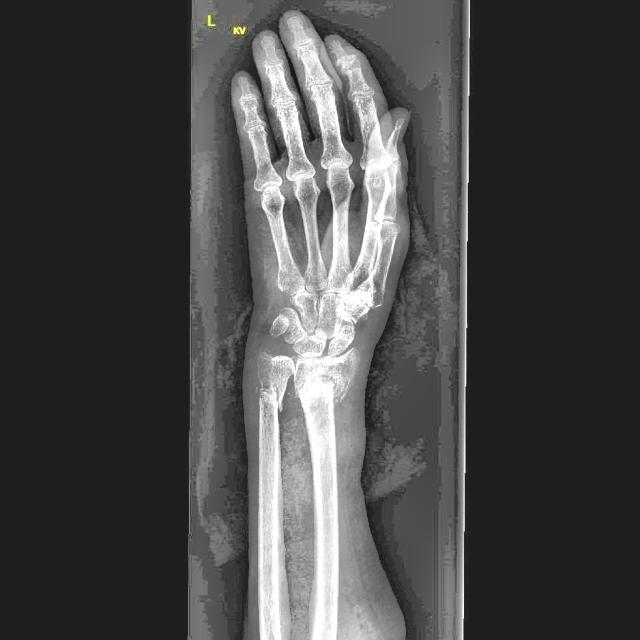fracture: (299, 376, 346, 408), (250, 381, 282, 413)
